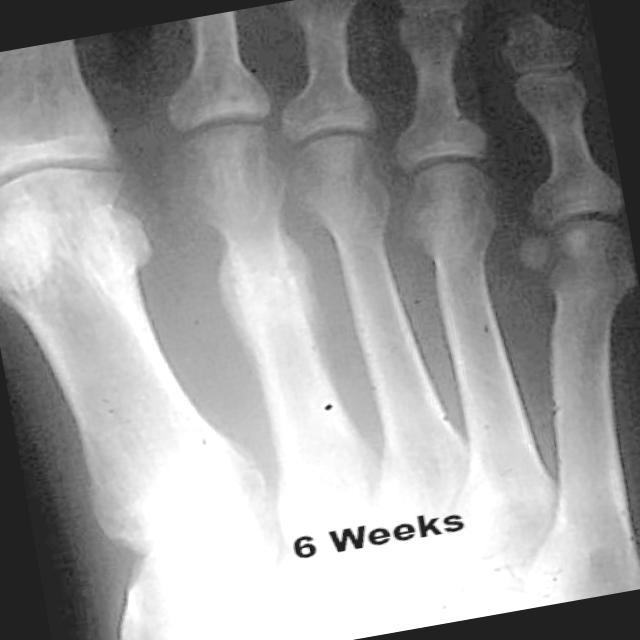HairLine Fracture: (205, 235, 302, 322)
